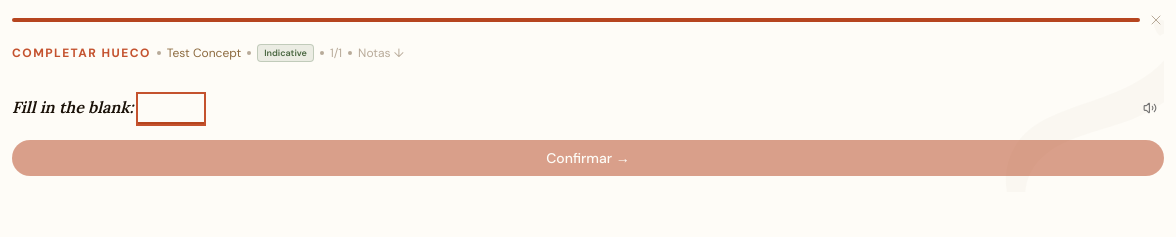
Test case: StudySession — UX-AB concept collapse › clicking toggle expands explanation and changes label to "Notes ↑"
Click the button "Notas ↓": (381, 53) [358,45,404,61]
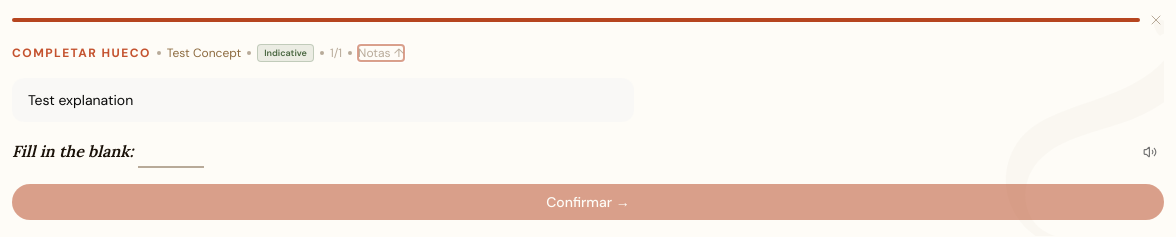
Expected: the button "Notas ↑" is shown, [358,45,404,61]
